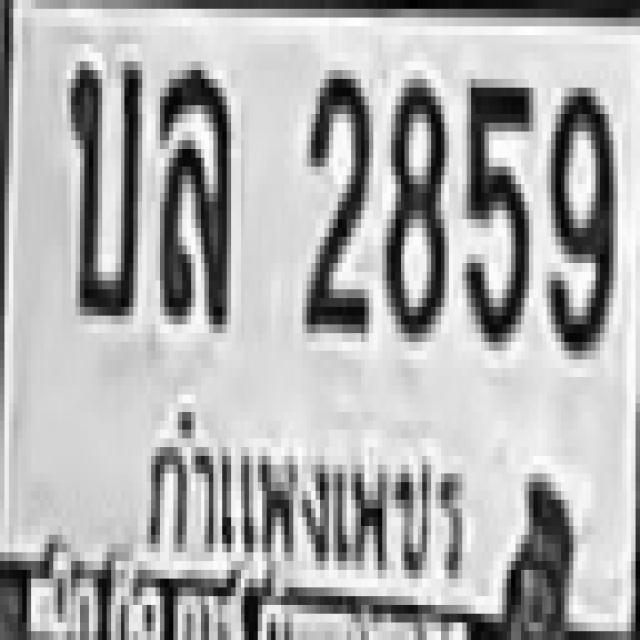2: (302, 62, 369, 324)
35BorBaiMai: (66, 52, 138, 316)
45LorLing: (156, 62, 227, 316)
5: (462, 70, 529, 342)
8: (382, 70, 444, 333)
9: (542, 75, 609, 346)
KamphaengPhet: (137, 406, 473, 592)
